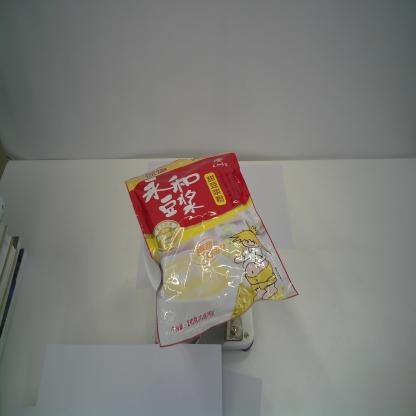Instant Drink: (124, 150, 299, 348)
